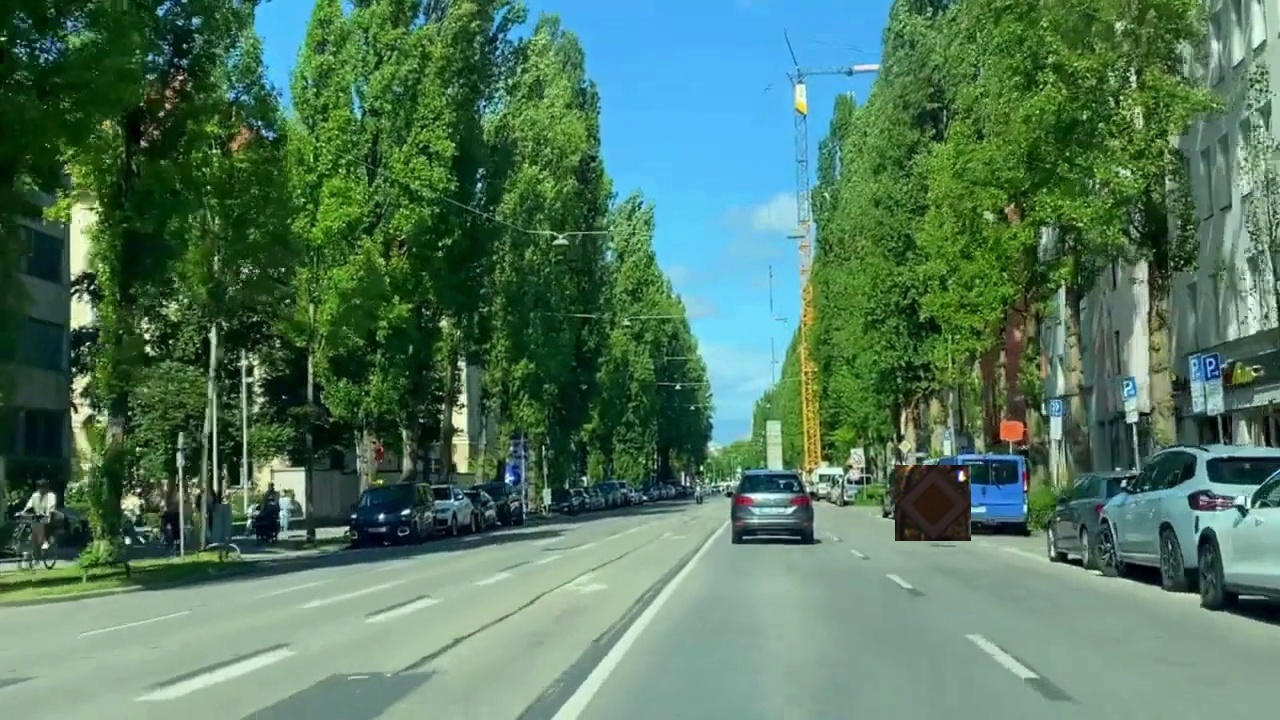Priority road: (895, 465, 971, 541)
